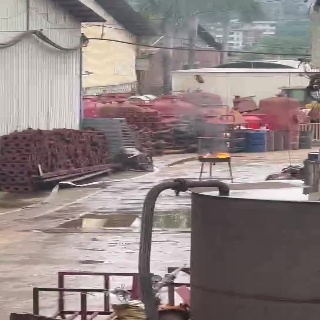fire: (198, 151, 231, 158)
